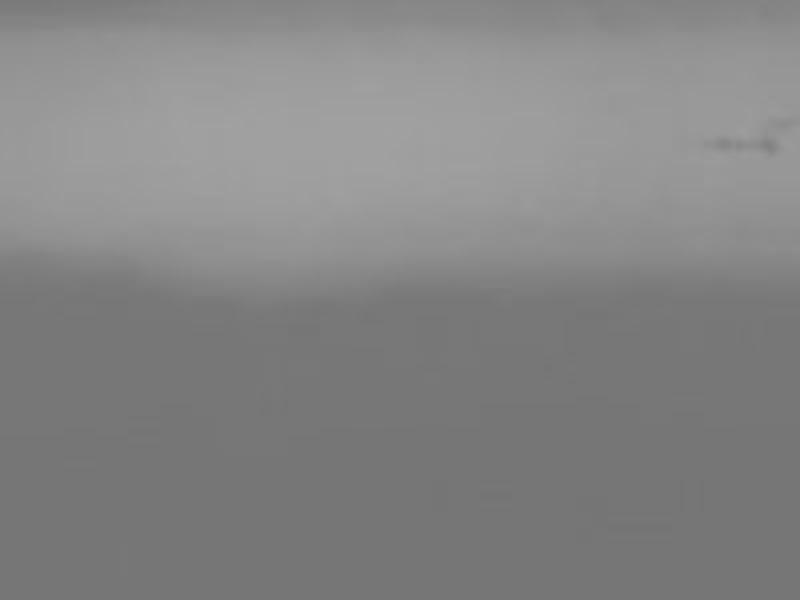defect: (707, 134, 753, 156), (766, 111, 792, 137), (757, 138, 778, 156)
